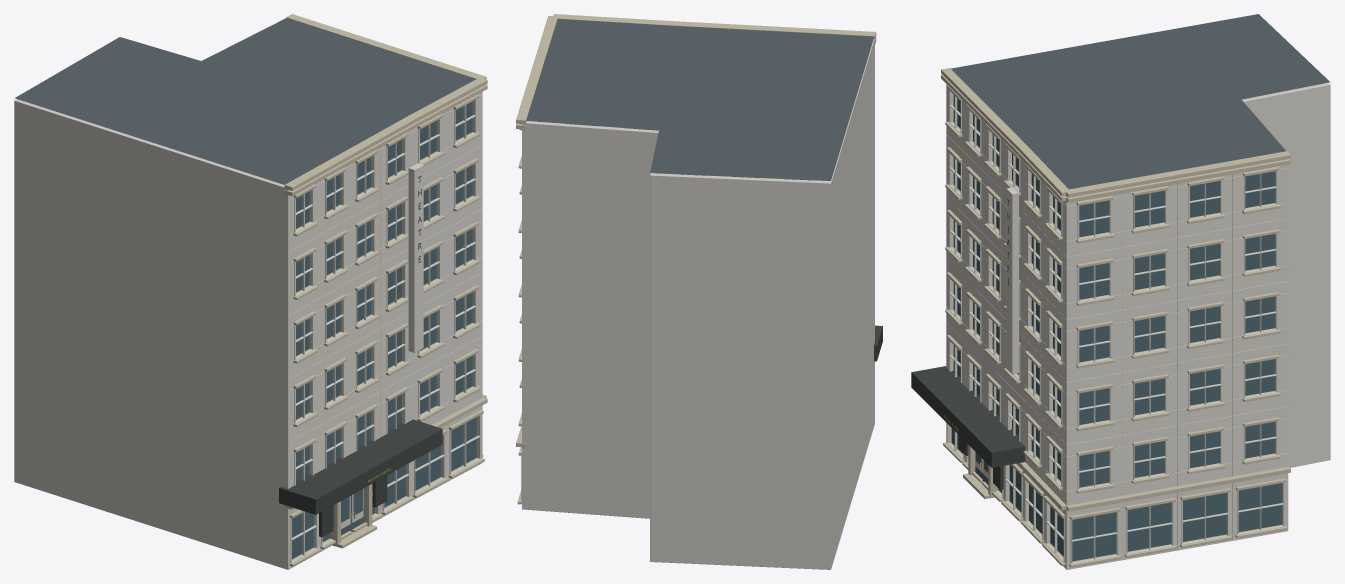
Rendered from pea-exterior-a266f3271365.glb.
3 renders of one model, left to right at view 1: azimuth 30°, elevation 25°; view 2: azimuth 150°, elevation 25°; view 3: azimuth 270°, elevation 25°, orthographic. The views are drawn at different scales.
Parts seen in each view (by area): view 1: PEA.001; view 2: PEA.001; view 3: PEA.001.
Boxes of the visible parts, left/top/right/bottom form: PEA.001: left=14, top=14, right=487, bottom=569; PEA.001: left=516, top=14, right=882, bottom=569; PEA.001: left=911, top=14, right=1330, bottom=569.
Bounding box in the file's own units: 20.09 × 19.65 × 19.72.
